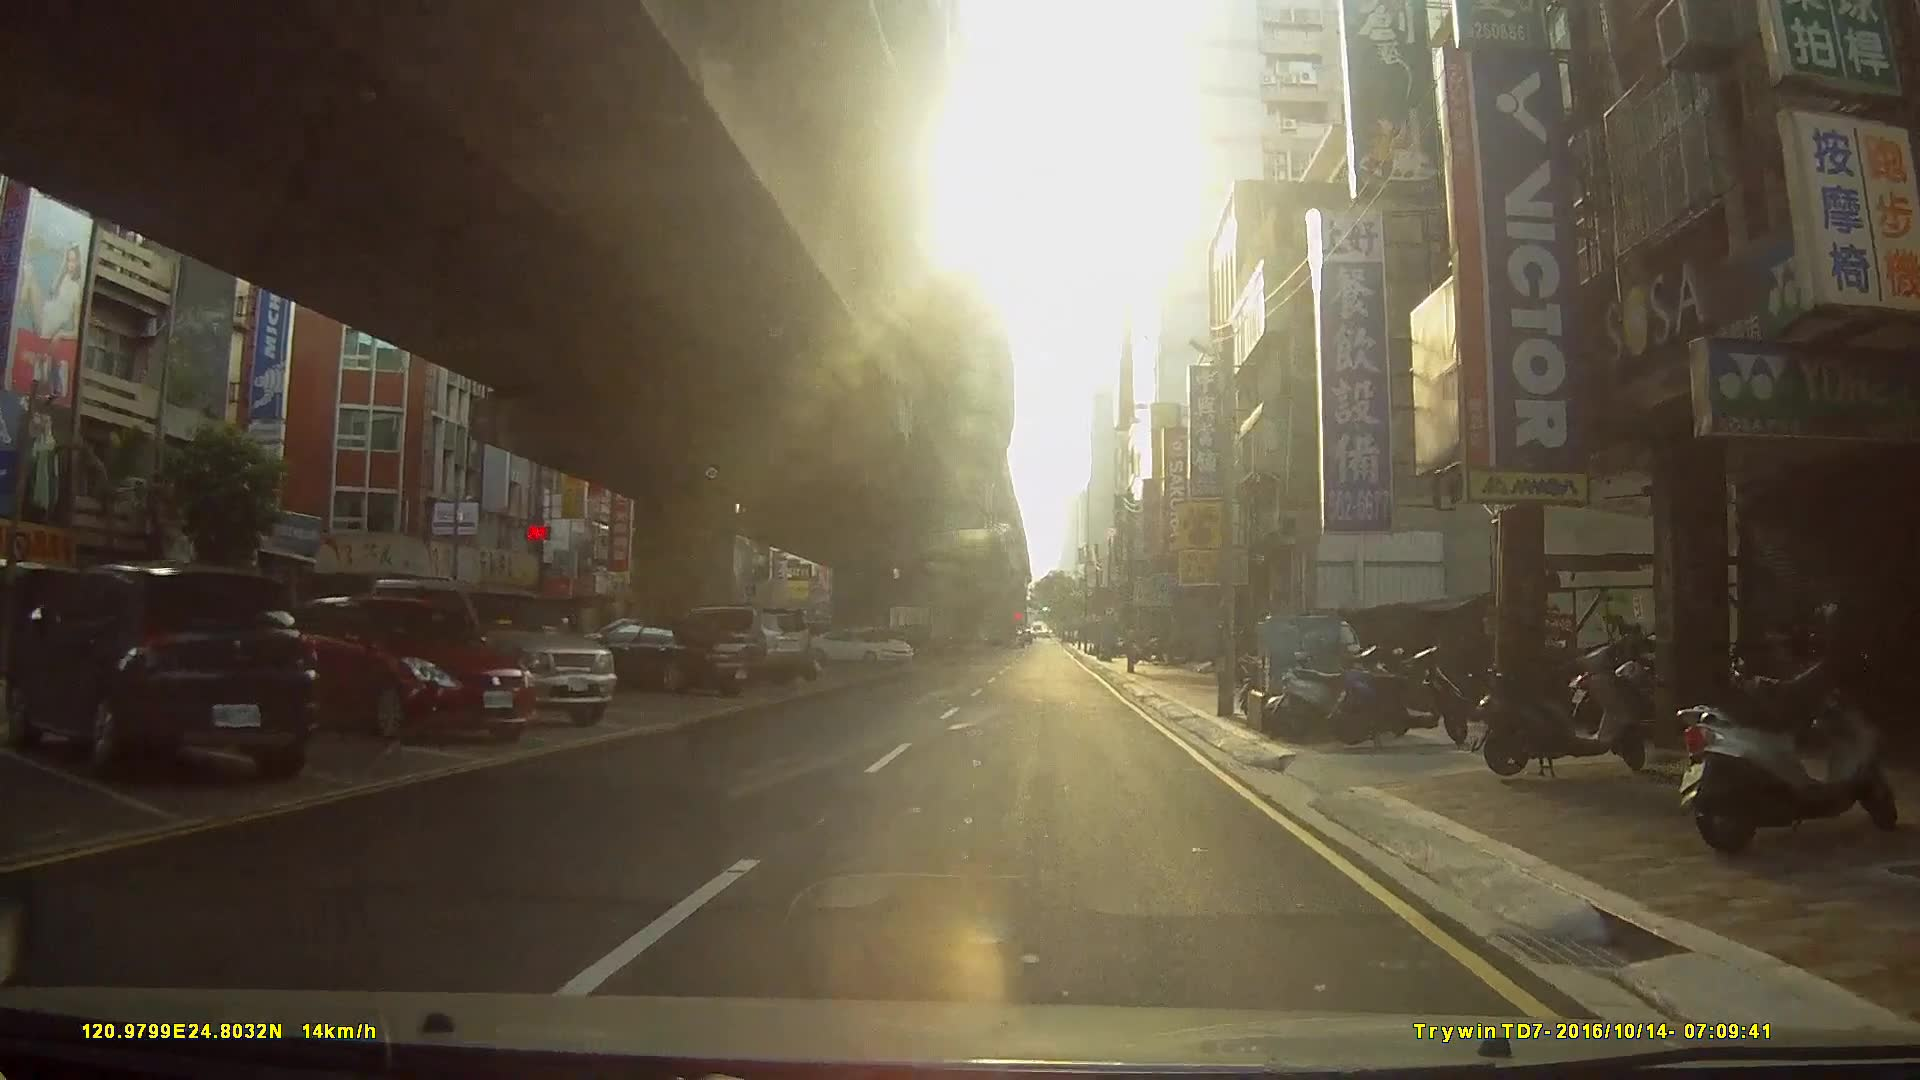vehicle: (0, 558, 320, 781), (363, 572, 618, 727), (284, 591, 535, 738), (579, 615, 767, 694), (655, 603, 814, 687), (804, 625, 914, 667)
